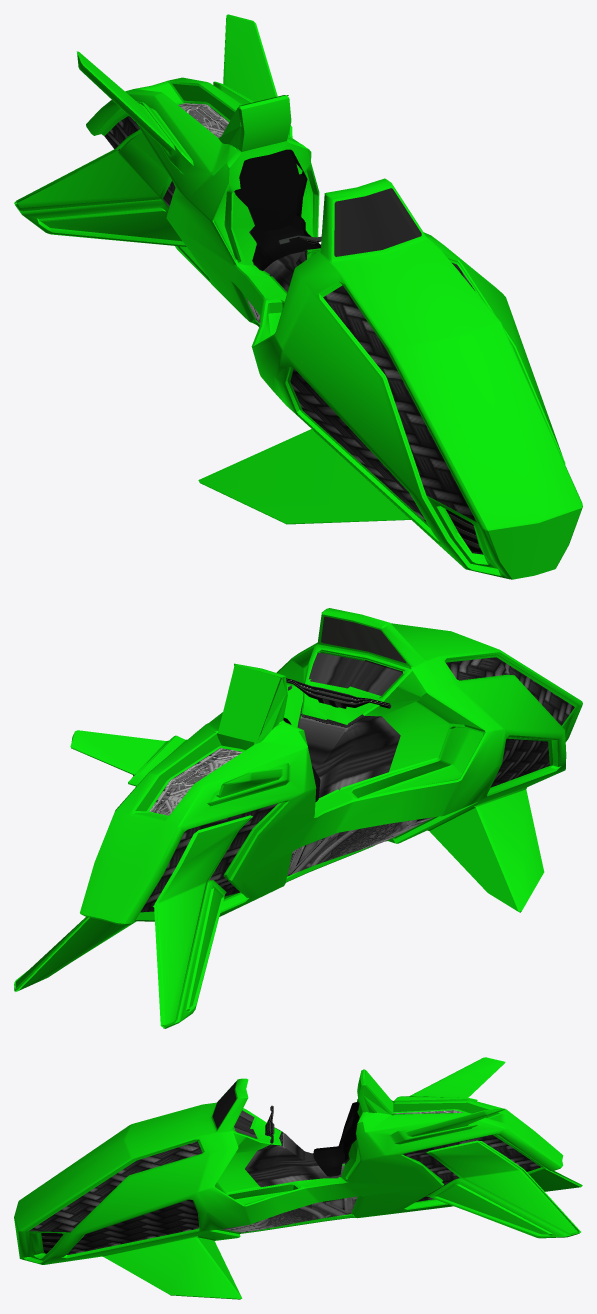
Rendered from SLowRacer.fbx.
The picture shows the model from 3 angles, top to bottom: view 1: azimuth 30°, elevation 25°; view 2: azimuth 150°, elevation 25°; view 3: azimuth 270°, elevation 25°; orthographic projection. The views are drawn at different scales.
Visible parts, largest first — view 1: hover_bike_1_Cube.002; view 2: hover_bike_1_Cube.002; view 3: hover_bike_1_Cube.002.
Part boxes in pixels (left/top/right/bottom): hover_bike_1_Cube.002: left=14, top=14, right=582, bottom=579; hover_bike_1_Cube.002: left=14, top=608, right=582, bottom=1028; hover_bike_1_Cube.002: left=14, top=1057, right=582, bottom=1299.
Size of the model in its own units: 261 by 217 by 624.
Materials: 8 (7 with a texture image).
